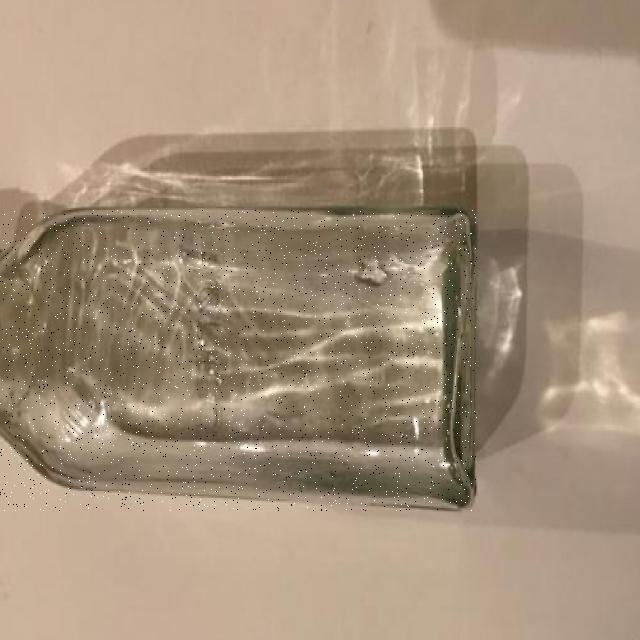glass: (0, 210, 477, 511)
